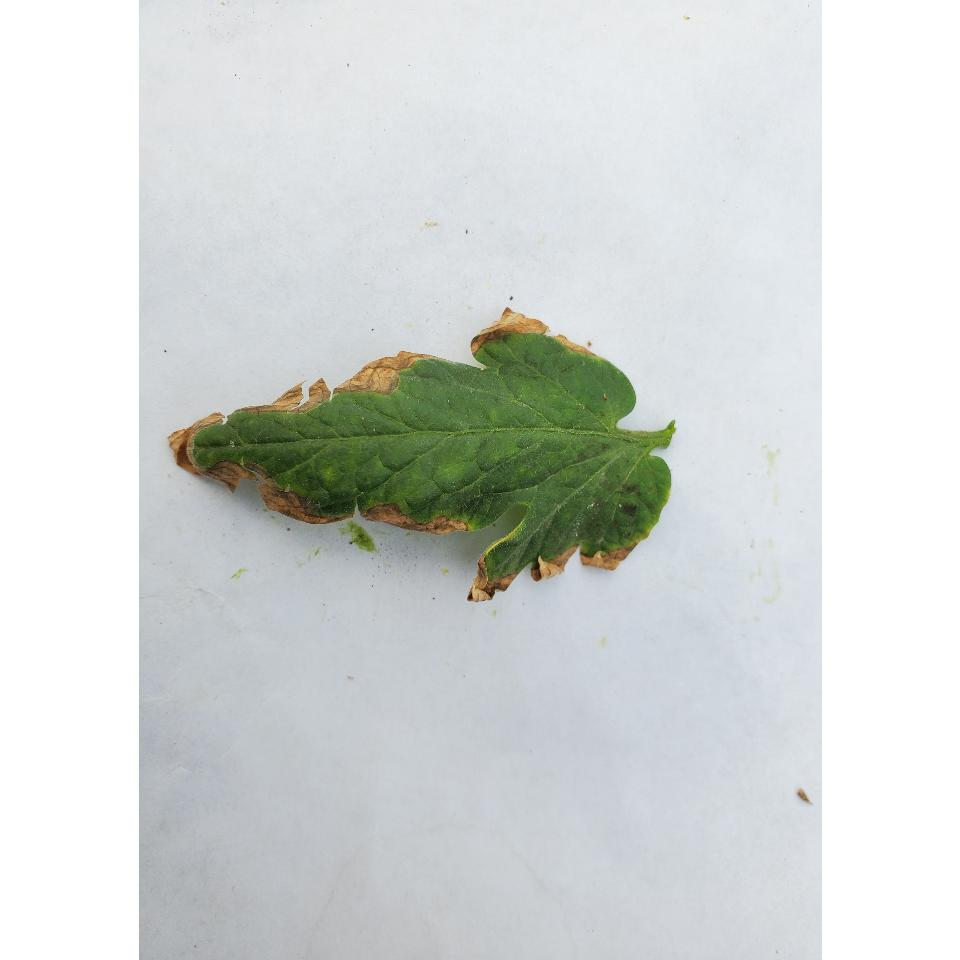tomato_bacterial_blight: (153, 354, 710, 574)
